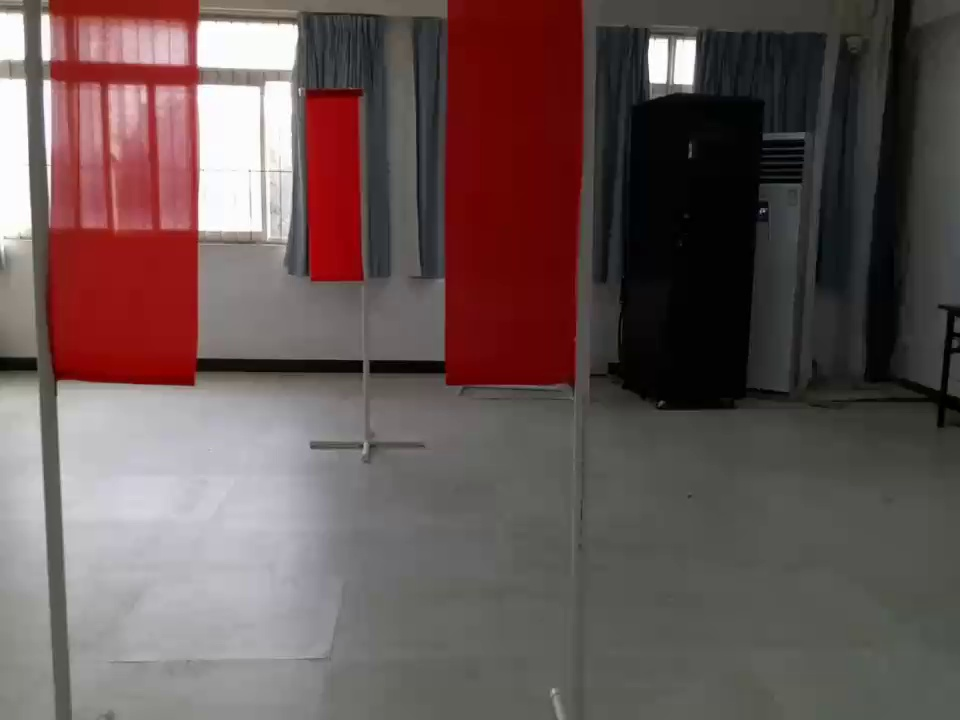qi: (36, 1, 208, 402), (440, 1, 603, 388), (299, 79, 369, 288)
